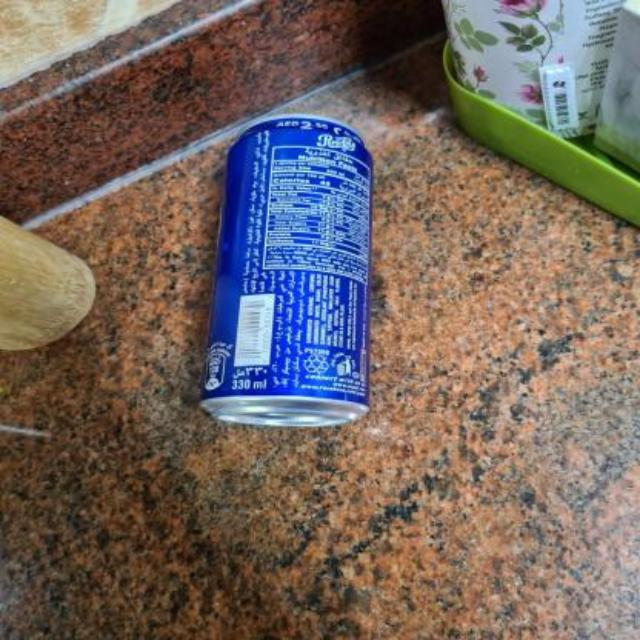metal: (200, 114, 369, 423)
